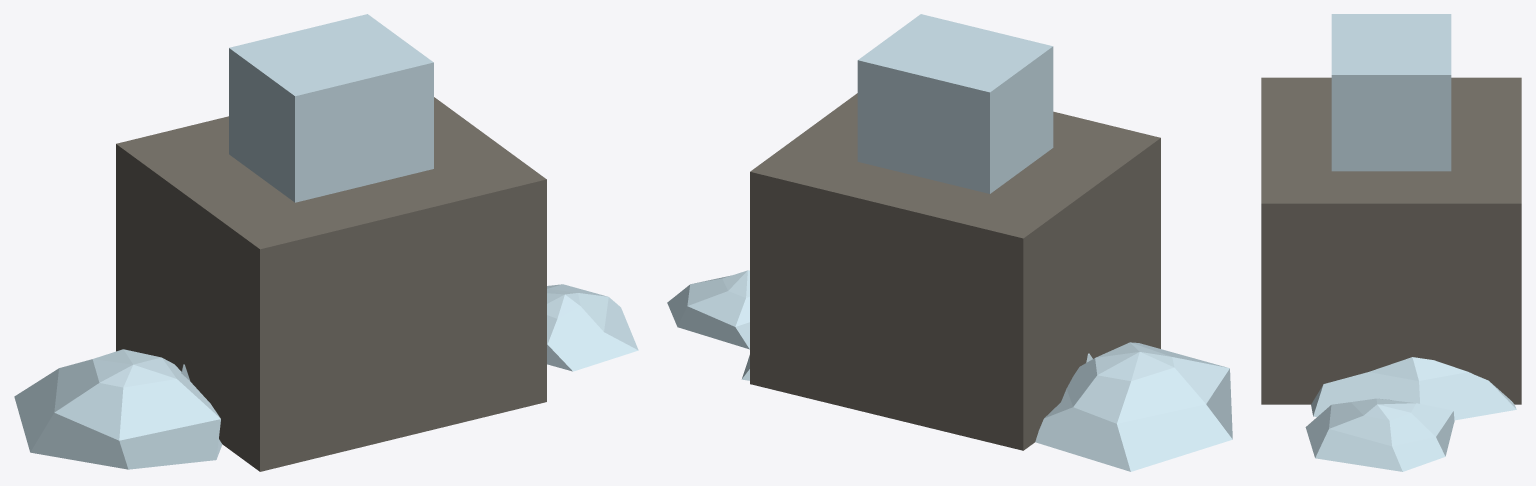
The model's file is props_polar.glb.
3 views of the same model, side by side, from view 1: azimuth 30°, elevation 25°; view 2: azimuth 150°, elevation 25°; view 3: azimuth 270°, elevation 25° (orthographic). The views are drawn at different scales.
Visible parts, largest first — view 1: col_Polar_IceBoulder, col_Polar_IceShard, Polar_SnowDrift_LOD0; view 2: col_Polar_IceBoulder, col_Polar_IceShard, Polar_SnowDrift_LOD0; view 3: col_Polar_IceBoulder, col_Polar_IceShard, Polar_SnowDrift_LOD0.
Part boxes in pixels (x1=…): col_Polar_IceBoulder: x1=116, y1=97, x2=546, y2=471; col_Polar_IceShard: x1=229, y1=14, x2=433, y2=202; Polar_SnowDrift_LOD0: x1=14, y1=284, x2=638, y2=469; col_Polar_IceBoulder: x1=750, y1=93, x2=1160, y2=450; col_Polar_IceShard: x1=857, y1=14, x2=1053, y2=193; Polar_SnowDrift_LOD0: x1=667, y1=270, x2=1232, y2=471; col_Polar_IceBoulder: x1=1261, y1=77, x2=1521, y2=404; col_Polar_IceShard: x1=1331, y1=14, x2=1451, y2=171; Polar_SnowDrift_LOD0: x1=1305, y1=357, x2=1516, y2=471.
Size of what is drawn, in the model's own units: 3.2 by 1.7 by 1.35.
